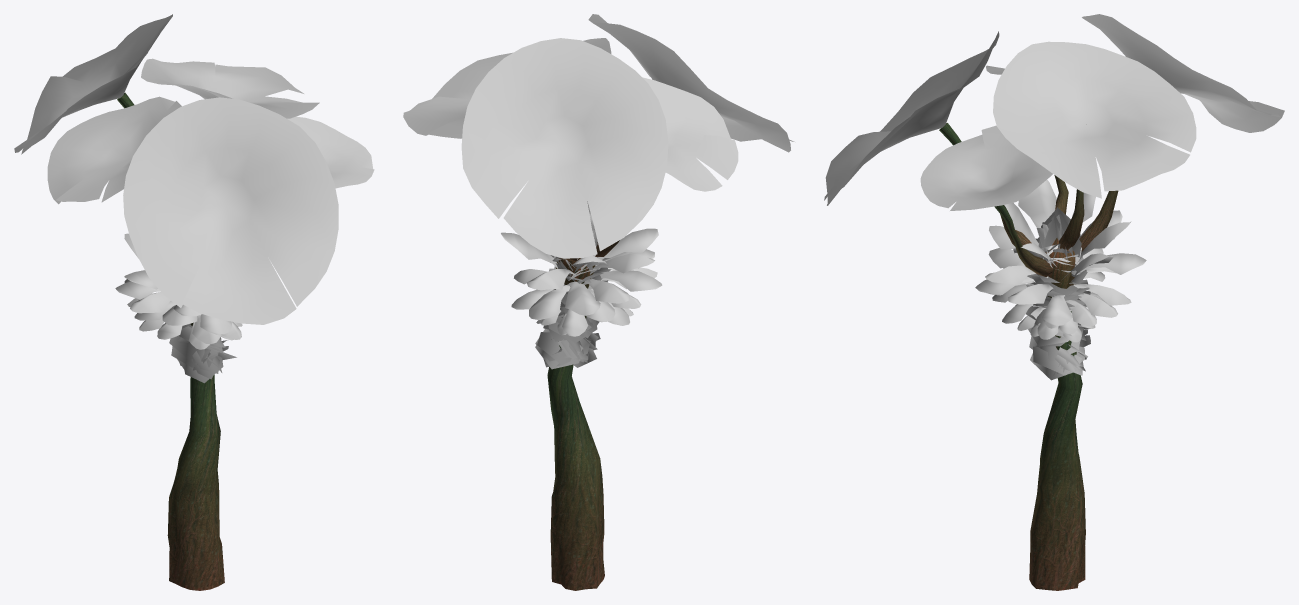
File: Plant2_1_L1.fbx
3 renders of one model, left to right at view 1: azimuth 30°, elevation 25°; view 2: azimuth 150°, elevation 25°; view 3: azimuth 270°, elevation 25°, orthographic. The views are drawn at different scales.
Parts seen in each view (by area): view 1: polySurface24; view 2: polySurface24; view 3: polySurface24.
Boxes of the visible parts, box(x1,y1,x2,y2) form: polySurface24: box(14, 14, 374, 590); polySurface24: box(403, 14, 794, 590); polySurface24: box(824, 14, 1284, 590).
Size of the model in its own units: 263 by 487 by 365.
